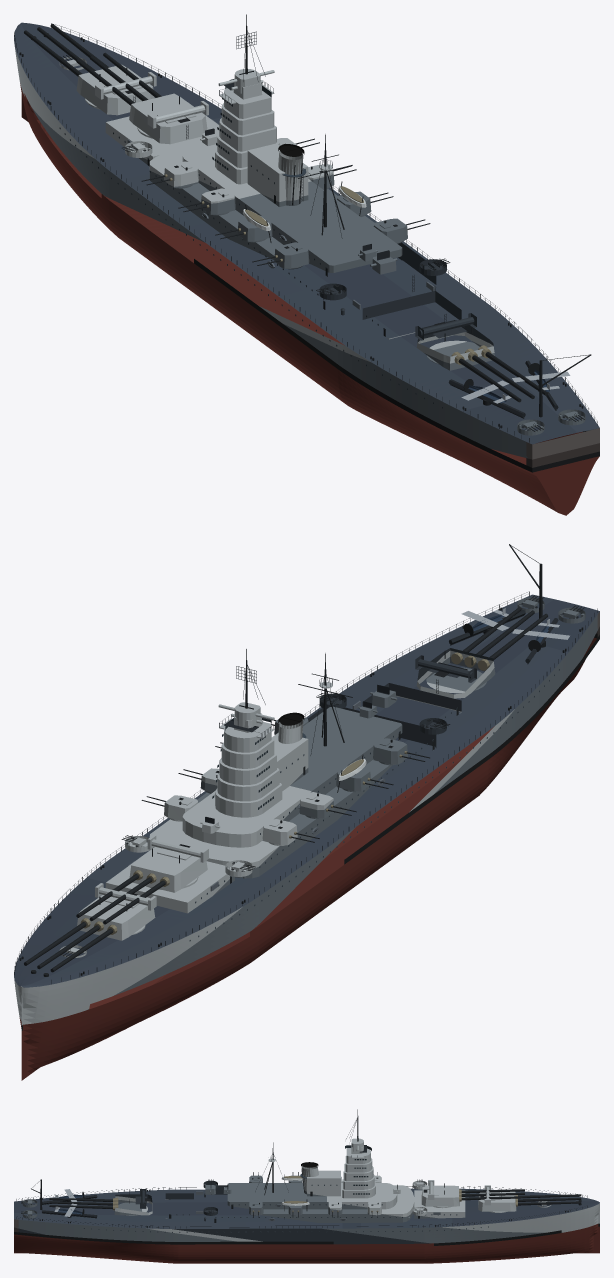
Rendered from south_dakota_m22.glb.
3 renders of one model, top to bottom at view 1: azimuth 30°, elevation 25°; view 2: azimuth 150°, elevation 25°; view 3: azimuth 270°, elevation 25°, orthographic. The views are drawn at different scales.
Visible parts, largest first — view 1: Hull, Turret2, Turret3, Turret1, Mount52, Mount54, Mount58, Mount56, Mount57; view 2: Hull, Turret3, Turret2, Turret1, Mount58, Mount52, Mount54; view 3: Hull, Turret2, Turret3, Turret1.
Boxes of the visible parts, x1,y1,x2,y2 form: Hull: [14, 14, 599, 515]; Turret2: [76, 52, 208, 144]; Turret3: [415, 313, 548, 402]; Turret1: [24, 24, 156, 115]; Mount52: [141, 161, 198, 188]; Mount54: [178, 188, 235, 215]; Mount58: [252, 242, 309, 269]; Mount56: [215, 215, 272, 242]; Mount57: [373, 218, 430, 243]; Hull: [14, 544, 599, 1080]; Turret3: [415, 607, 547, 698]; Turret2: [76, 835, 208, 924]; Turret1: [24, 883, 156, 972]; Mount58: [373, 738, 429, 765]; Mount52: [262, 819, 319, 845]; Mount54: [299, 792, 356, 818]; Hull: [14, 1109, 599, 1263]; Turret2: [421, 1180, 524, 1208]; Turret3: [49, 1189, 152, 1216]; Turret1: [478, 1185, 581, 1212].
Bounding box in the file's own units: 38 × 56.2 × 207.
